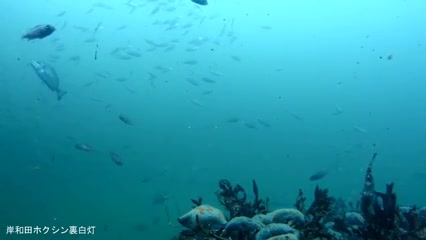smallfish: (28, 57, 71, 109)
